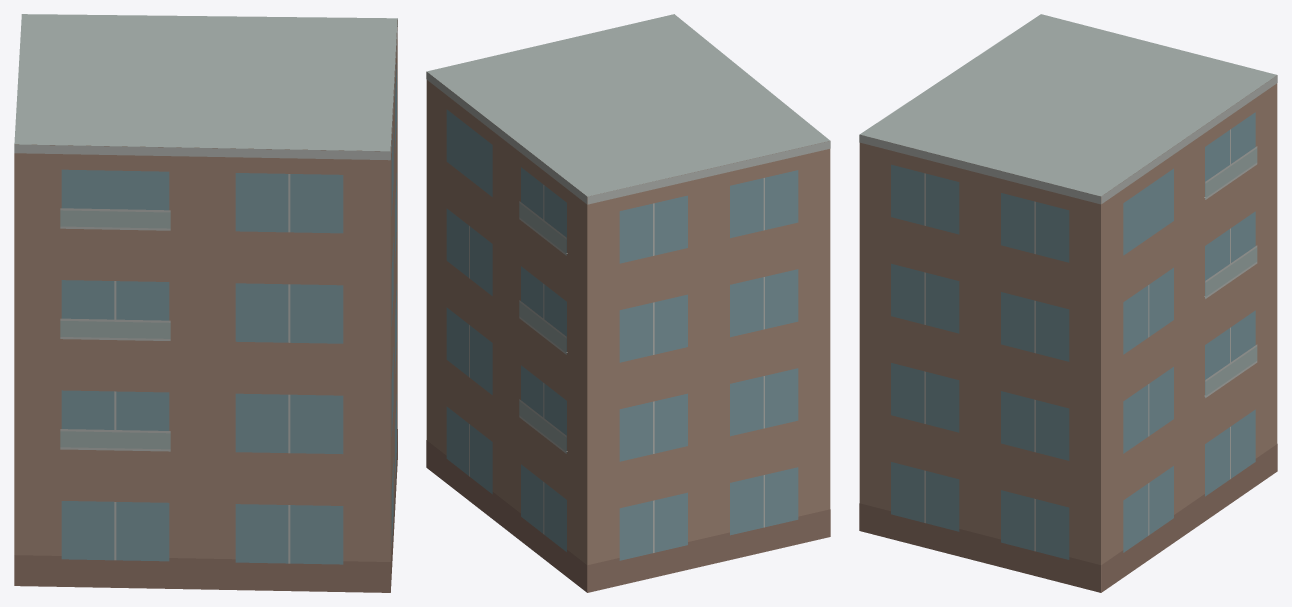
The model's file is survey-upis-32534694.glb.
The picture shows the model from 3 angles, left to right: view 1: azimuth 30°, elevation 25°; view 2: azimuth 150°, elevation 25°; view 3: azimuth 270°, elevation 25°; orthographic projection. The views are drawn at different scales.
Parts seen in each view (by area): view 1: survey-upis-32534694.tmp; view 2: survey-upis-32534694.tmp; view 3: survey-upis-32534694.tmp.
Part boxes in pixels (box(x1,y1,x2,y2)): survey-upis-32534694.tmp: box(14, 14, 397, 592); survey-upis-32534694.tmp: box(426, 14, 830, 592); survey-upis-32534694.tmp: box(859, 14, 1277, 592).
Size of the model in its own units: 11.96 by 12.1 by 11.57.
